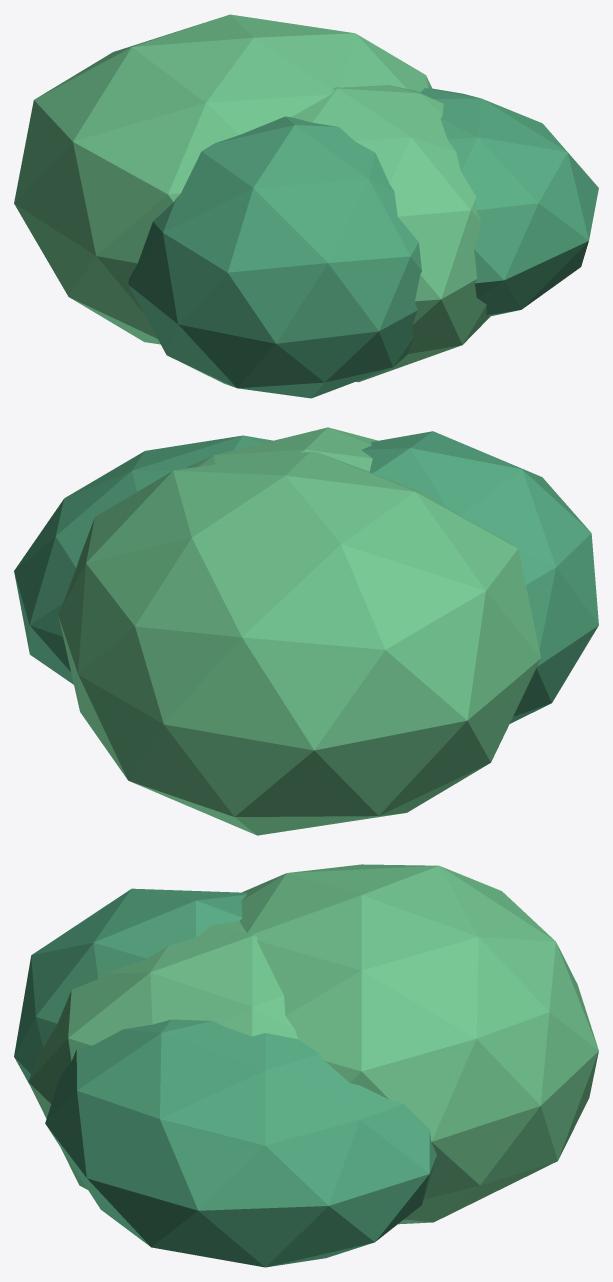
Rendered from Bush_A.glb.
3 views of the same model, one above another, from view 1: azimuth 30°, elevation 25°; view 2: azimuth 150°, elevation 25°; view 3: azimuth 270°, elevation 25° (orthographic). The views are drawn at different scales.
Visible parts, largest first — view 1: Bush_A; view 2: Bush_A; view 3: Bush_A.
Part boxes in pixels (x1,y1,x2,y2): Bush_A: (14, 14, 598, 398); Bush_A: (14, 427, 598, 835); Bush_A: (14, 864, 598, 1267).
Bounding box in the file's own units: 1.27 × 0.7622 × 1.26.
